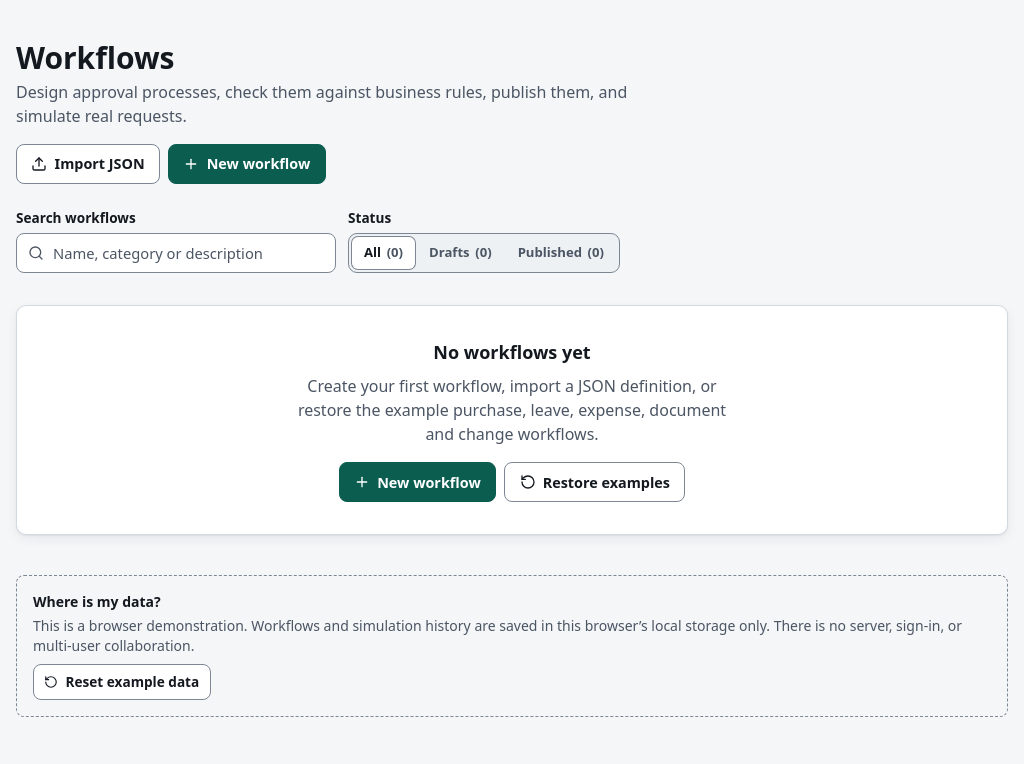
Scenario: WorkflowsPage › shows an empty state when every workflow is deleted
Expected: the heading "No workflows yet" is shown, [433,340,591,364]
Click the button "Restore examples": (595, 482) [504,462,685,502]
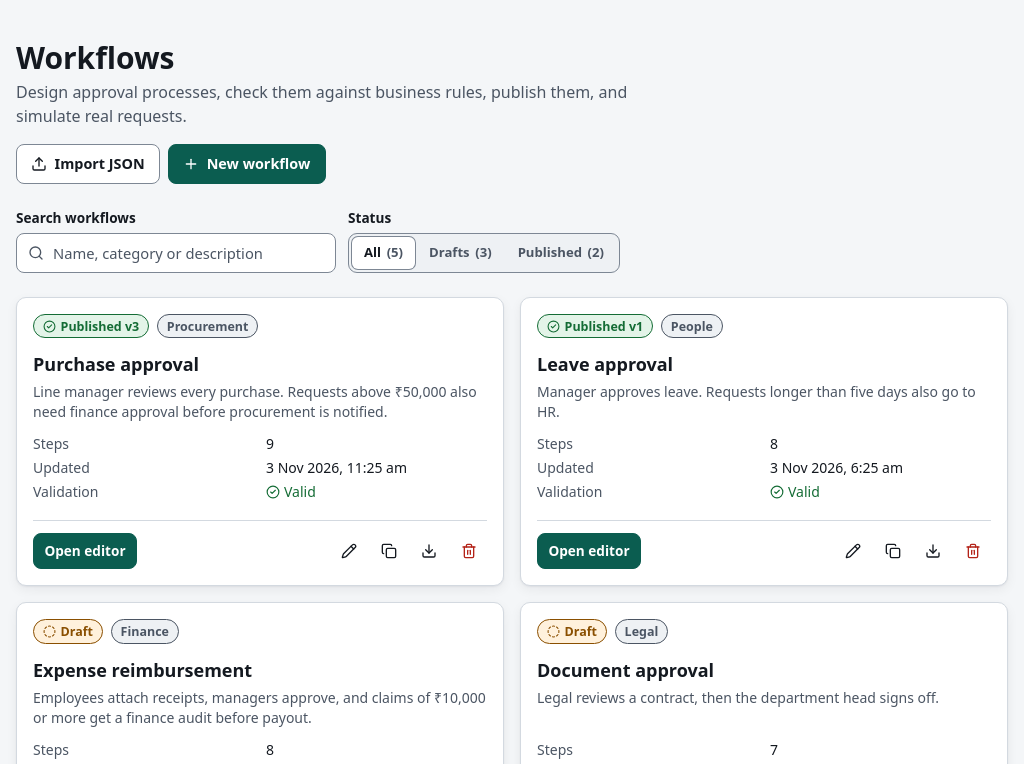
Expected: the number of list items is 5
